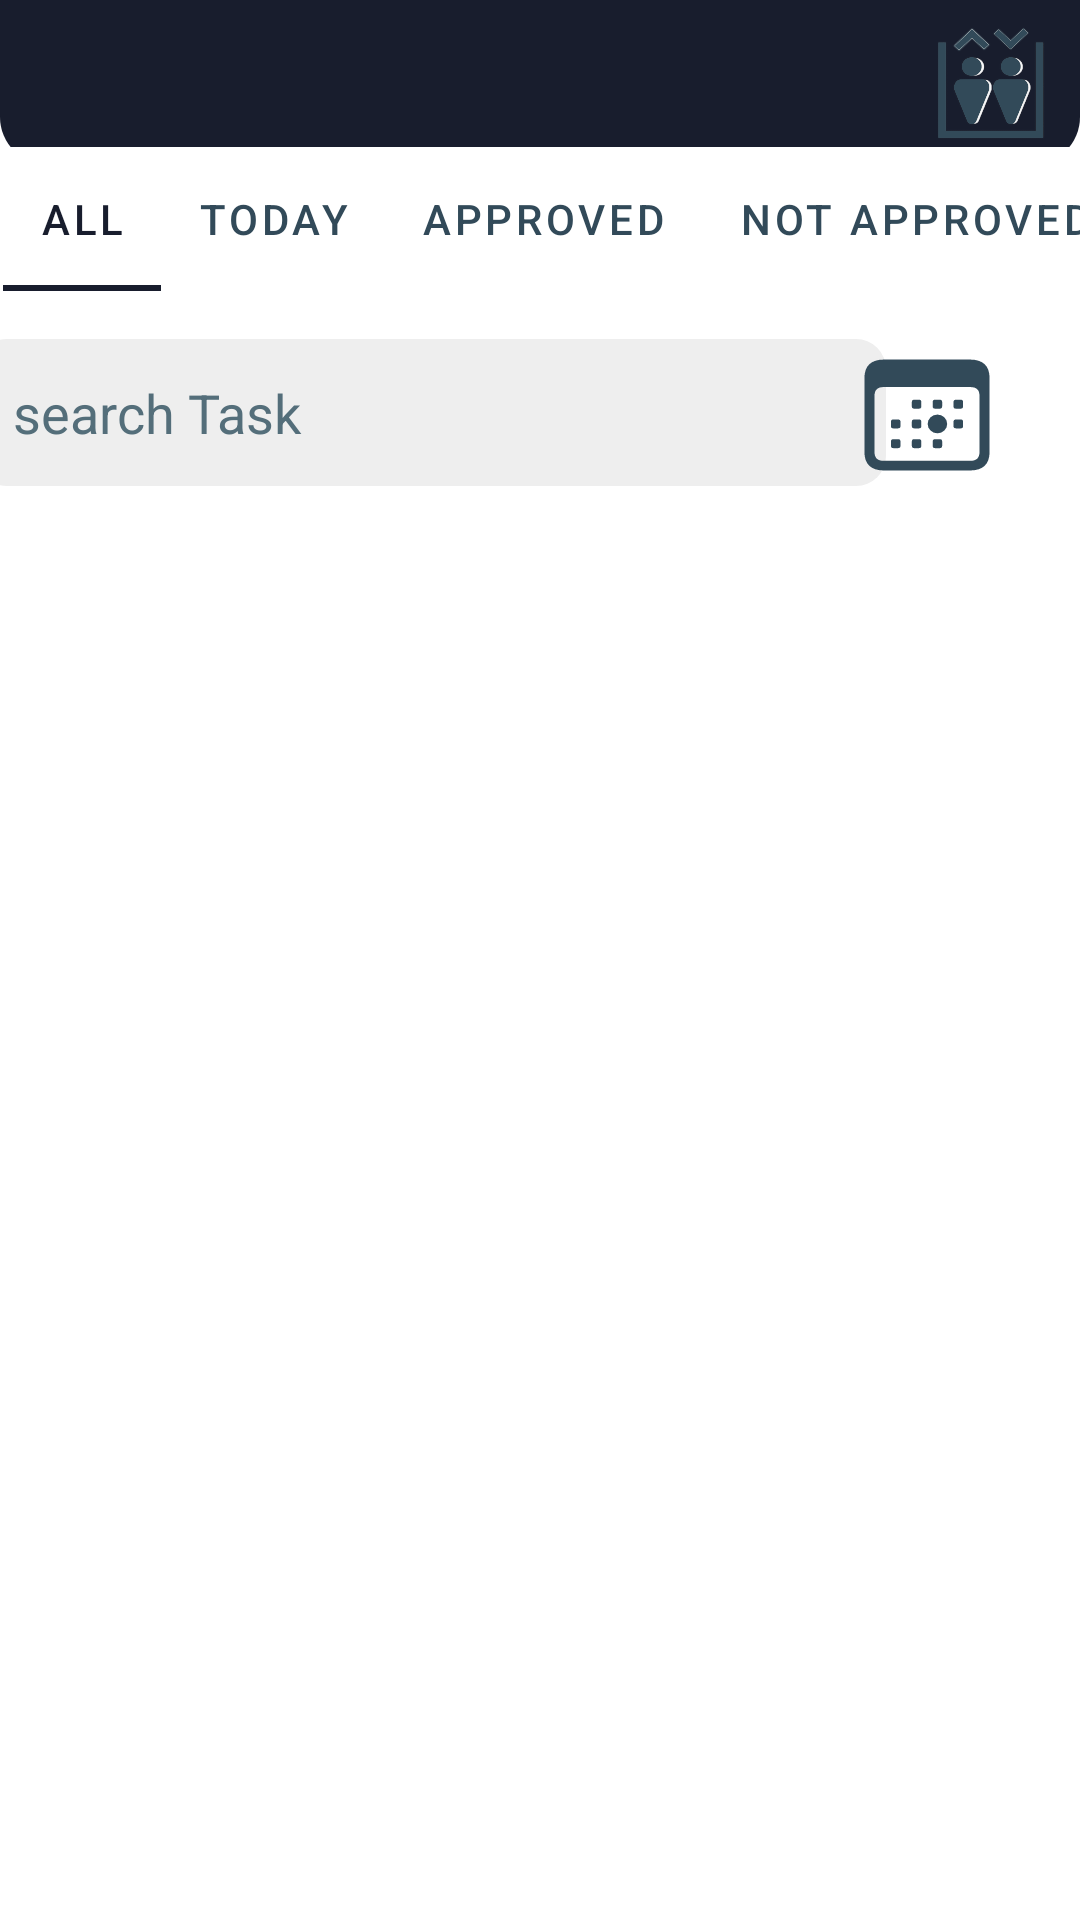

Named icons in this screenshot (1080 × 1920) and their centers, (x=x, y=y):
calendar today: (x=927, y=415)
